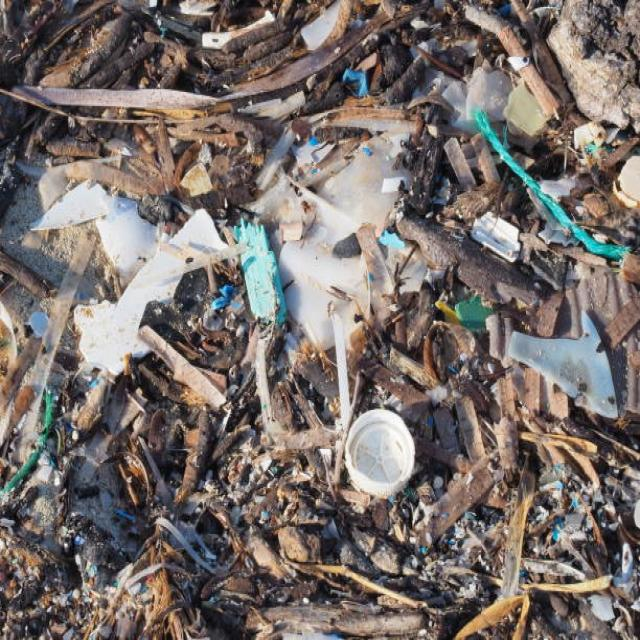plastic: (344, 409, 416, 513)
